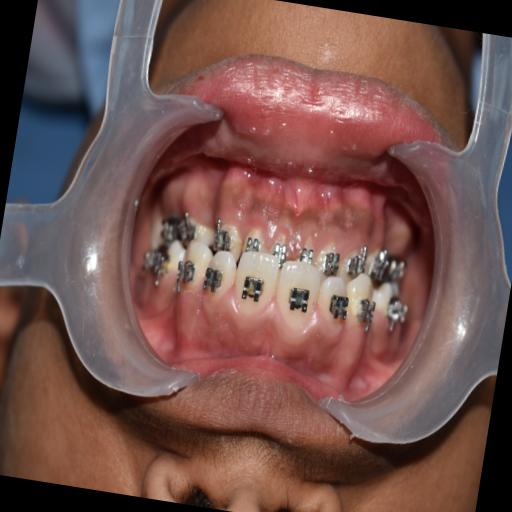correct_brace: (238, 272, 268, 306), (285, 281, 313, 317), (200, 263, 228, 299), (326, 290, 352, 322)
incorrect_brace: (195, 245, 238, 323), (312, 272, 356, 342)
